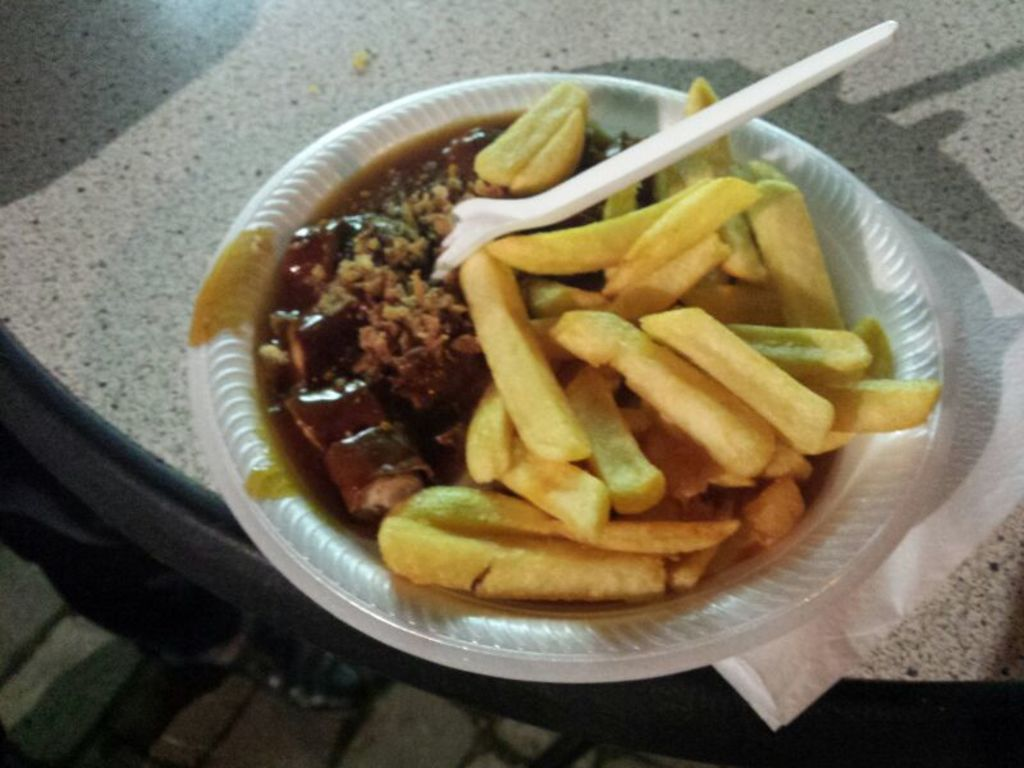French fries: (386, 131, 899, 606)
